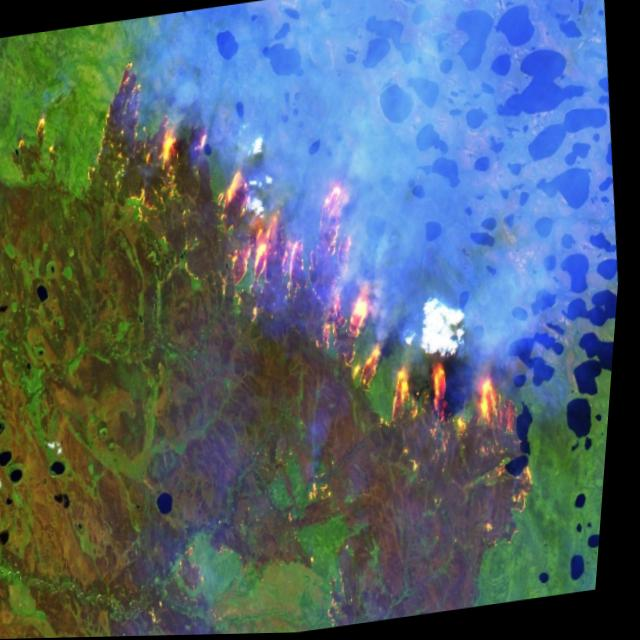fire: (0, 0, 594, 640)
